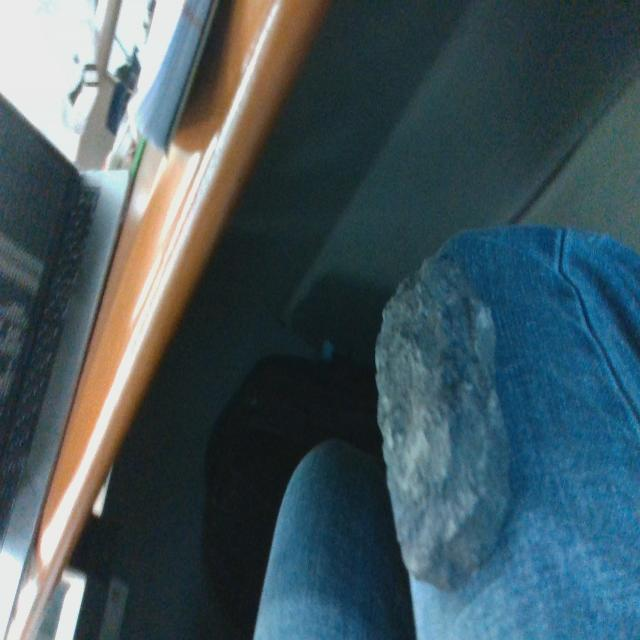stone: (374, 255, 514, 596)
